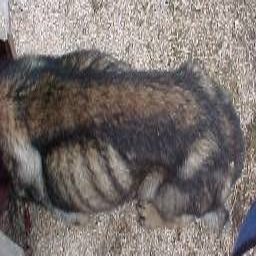dog: (2, 54, 242, 222)
